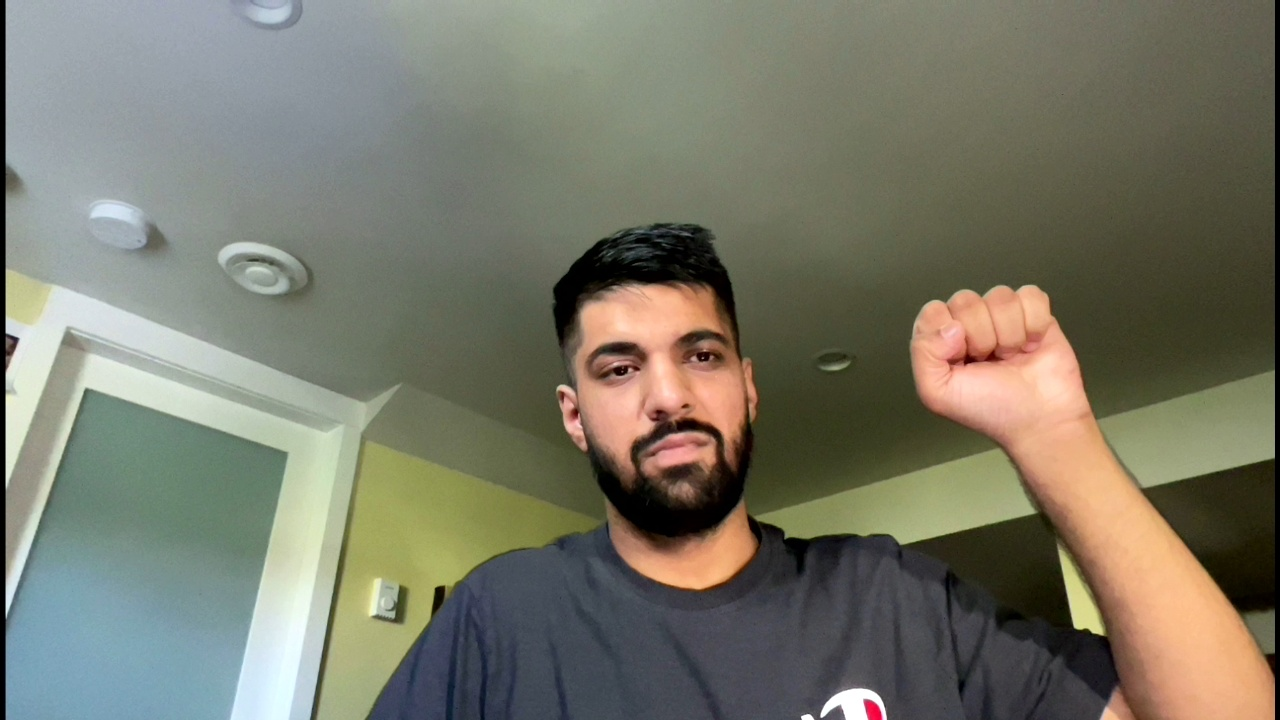No: (904, 278, 1107, 427)
